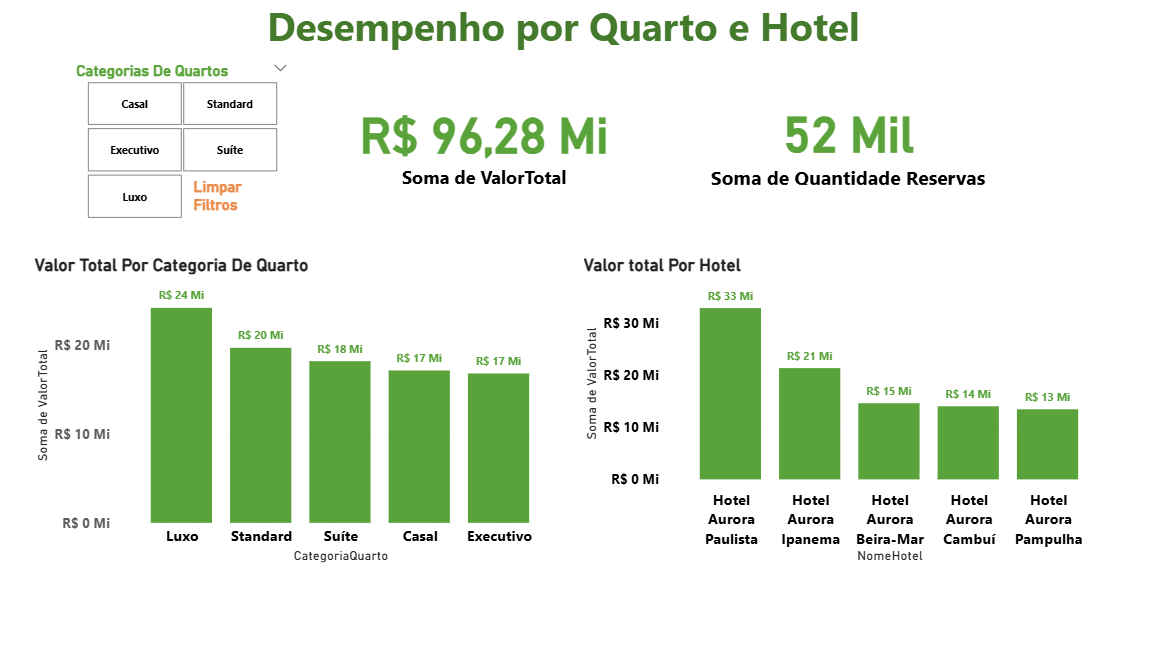

Layout of this report page (visuals, bound fields, positions):
{"tool":"powerbi","page":{"name":" Desempenho Quarto/Hotel","canvas":[1280,720],"ordinal":3},"visuals":[{"type":"card","fields":{"Values":["Sum(Performance_Categoria_Quarto.ValorTotal)"]},"box":[381.7,108.3,306.7,106.7],"z":0},{"type":"card","fields":{"Values":["Sum(Performance_Categoria_Quarto.QuantidadeReservas)"]},"box":[765,108.3,341.7,106.7],"z":1000},{"type":"clusteredColumnChart","title":"Valor Total Por Categoria De Quarto","fields":{"Category":["Performance_Categoria_Quarto.CategoriaQuarto"],"Y":["Sum(Performance_Categoria_Quarto.ValorTotal)"]},"box":[33.3,286.7,593.3,345],"z":2000},{"type":"clusteredColumnChart","title":"Valor total Por Hotel","fields":{"Category":["Performance_Categoria_Quarto.NomeHotel"],"Y":["Sum(Performance_Categoria_Quarto.ValorTotal)"]},"box":[640,286.7,593.3,345],"z":3000},{"type":"slicer","fields":{"Values":["Performance_Categoria_Quarto.CategoriaQuarto"]},"box":[71.7,68.3,258.3,185],"z":4000},{"type":"actionButton","title":"Limpar Filtros","box":[213.3,201.7,100,40],"z":5000},{"type":"textbox","box":[290,0,673.3,68.3],"z":6000}]}

Visuals, with their boxes in screenshot pixels (x1, y1, x2, y2), scaled from the page's 1280x720 canvas onto the 1159x646 screenshot:
card - Sum(Performance_Categoria_Quarto.ValorTotal): left=346, top=97, right=623, bottom=193
card - Sum(Performance_Categoria_Quarto.QuantidadeReservas): left=693, top=97, right=1002, bottom=193
"Valor Total Por Categoria De Quarto" clusteredColumnChart: left=30, top=257, right=567, bottom=567
"Valor total Por Hotel" clusteredColumnChart: left=580, top=257, right=1117, bottom=567
slicer - Performance_Categoria_Quarto.CategoriaQuarto: left=65, top=61, right=299, bottom=227
"Limpar Filtros" actionButton: left=193, top=181, right=284, bottom=217
textbox: left=263, top=0, right=872, bottom=61
